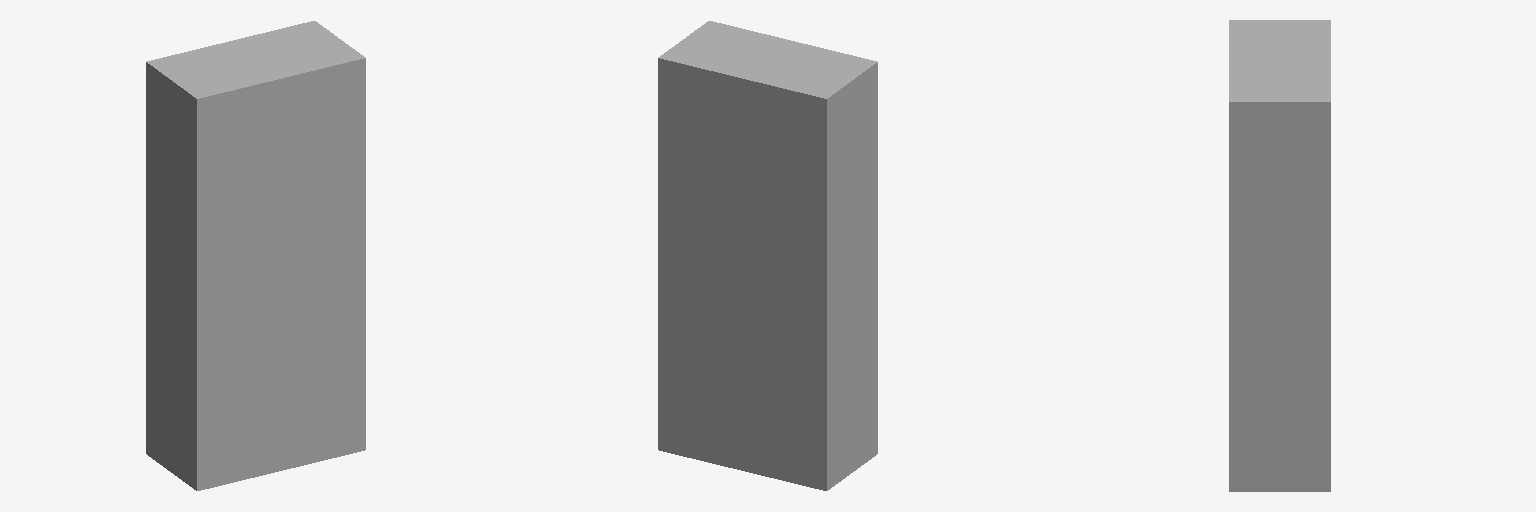
URDF robot description (root):
<robot name="root">
  <link name="link_Bandu Block_convex_piece_0">
    <inertial>
      <origin xyz="0 0 0" rpy="0 0 0"/>
      <mass value="3.85E-01"/>
      <inertia ixx="9.50E-04" ixy="-0.00E+00" ixz="-0.00E+00" iyy="1.08E-03" iyz="-0.00E+00" izz="2.33E-04"/>
    </inertial>
    <visual>
      <origin xyz="0 0 0" rpy="0 0 0"/>
      <geometry>
        <mesh filename="Bandu Block_convex_piece_0.obj" scale="1.0000E+00 1.0000E+00 1.0000E+00"/>
      </geometry>
      <material name="">
        <color rgba="7.50E-01 7.50E-01 7.50E-01 1"/>
      </material>
    </visual>
    <collision>
      <origin xyz="0 0 0" rpy="0 0 0"/>
      <geometry>
        <mesh filename="Bandu Block_convex_piece_0.obj" scale="1.0000E+00 1.0000E+00 1.0000E+00"/>
      </geometry>
    </collision>
  </link>
</robot>

--- Render facts (derived) ---
3 views of the same robot in one strip: view 1: azimuth 30°, elevation 25°; view 2: azimuth 150°, elevation 25°; view 3: azimuth 270°, elevation 25° (orthographic).
Robot: root — 1 links, 0 joints (none); root link link_Bandu Block_convex_piece_0; default pose: every joint at zero.
Links seen in each view (by area): view 1: link_Bandu Block_convex_piece_0; view 2: link_Bandu Block_convex_piece_0; view 3: link_Bandu Block_convex_piece_0.
Link boxes in pixels (x1,y1,x2,y2): link_Bandu Block_convex_piece_0: (146, 21, 365, 490); link_Bandu Block_convex_piece_0: (658, 21, 877, 490); link_Bandu Block_convex_piece_0: (1229, 20, 1330, 491).
Size in the robot's own frame: 0.0754 by 0.0396 by 0.1674 metres.
1 mesh visuals loaded from 1 distinct referenced files (1 OBJ).
